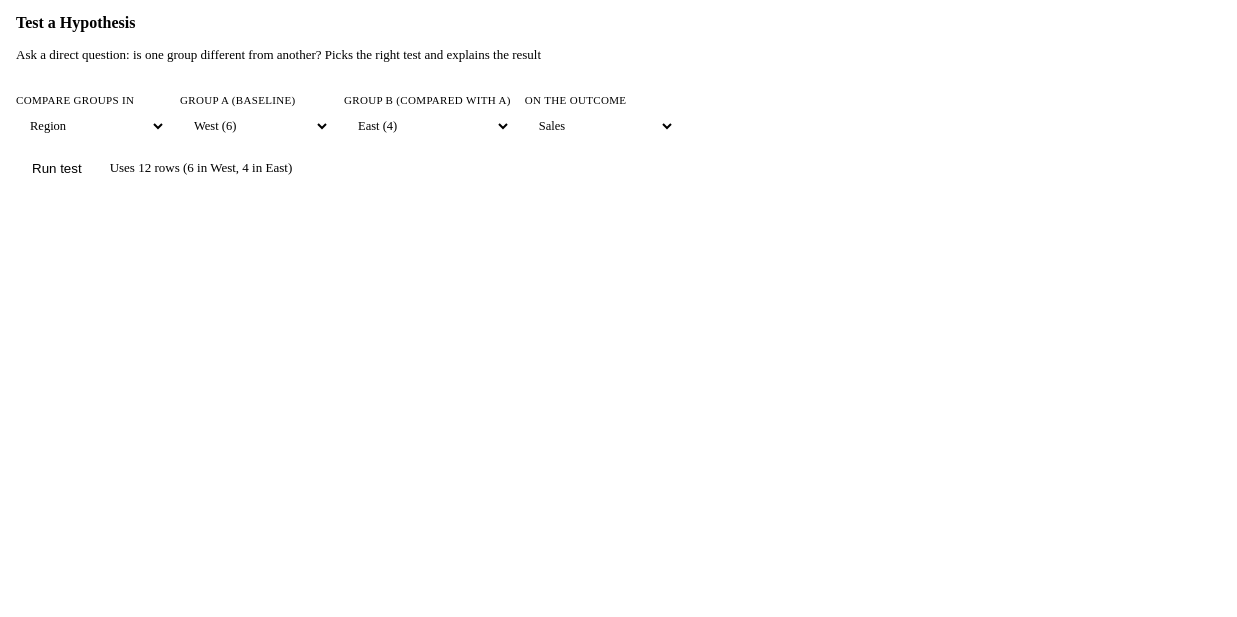
Test case: HypothesisTestPanel › sends only the two groups' values when the test is run, then shows the verdict first
The image size is (1237, 617).
Click the button "Run test": (57, 168) [16,152,98,184]
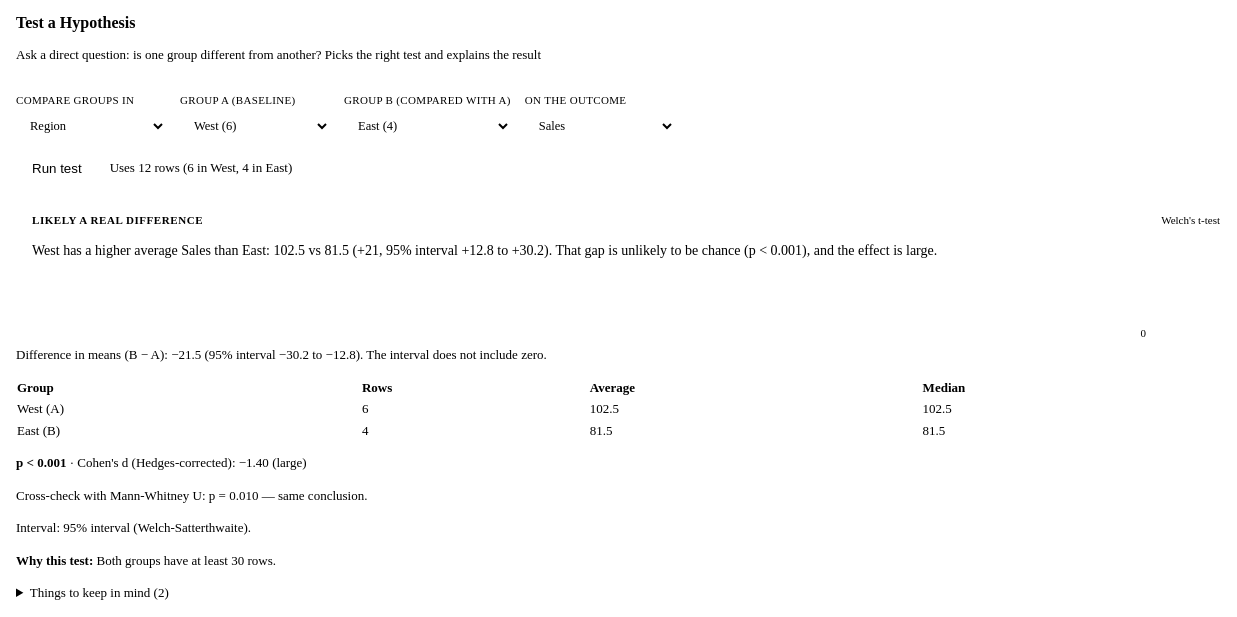
Check: the text "Likely a real difference" is shown, box [32,214,203,226]
Check: the text "West has a higher average Sales than East" is shown, box [32,242,937,258]
